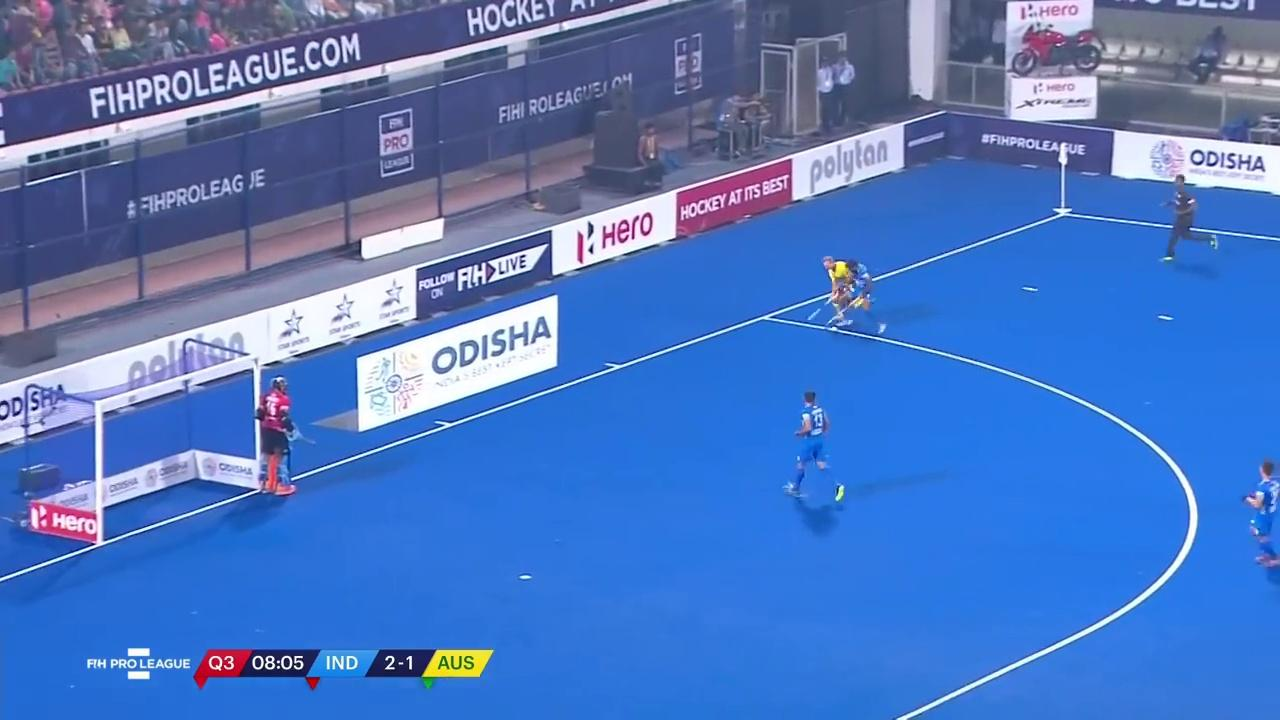ball: (827, 325, 841, 332)
